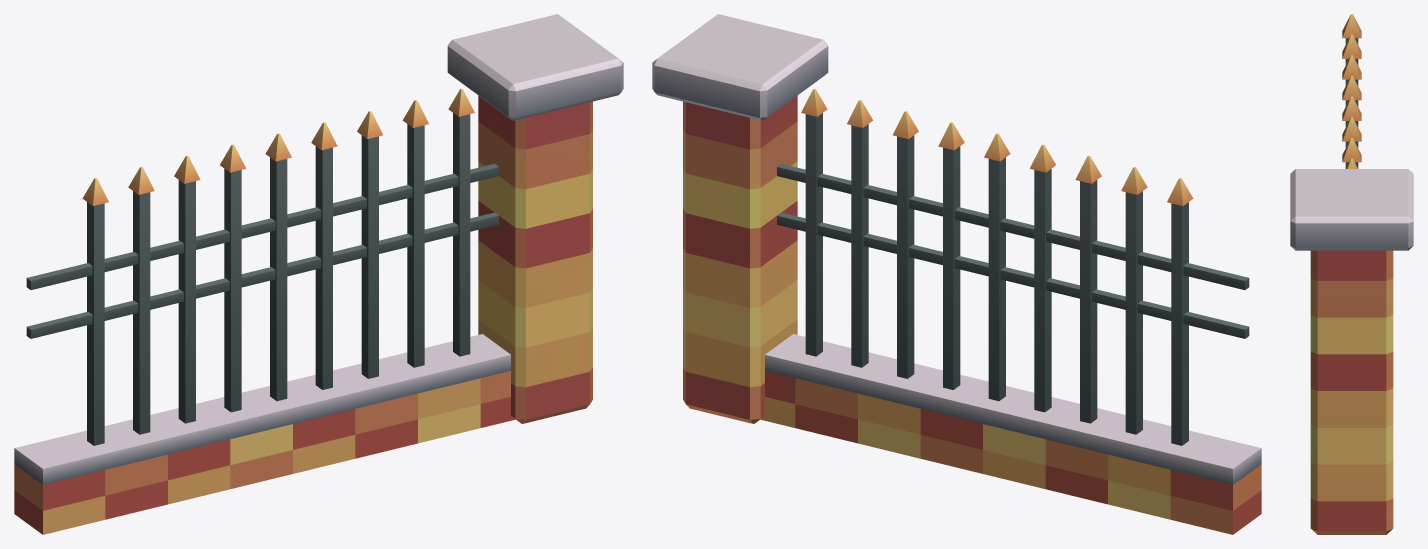
File: lpb_fence_1.fbx
3 renders of one model, left to right at view 1: azimuth 30°, elevation 25°; view 2: azimuth 150°, elevation 25°; view 3: azimuth 270°, elevation 25°, orthographic. The views are drawn at different scales.
Visible parts, largest first — view 1: fence1; view 2: fence1; view 3: fence1.
Part boxes in pixels (x1,y1,x2,y2): fence1: (14,14,623,534); fence1: (652,14,1261,534); fence1: (1290,14,1413,534).
Bounding box in the file's own units: 557 × 333 × 113.
